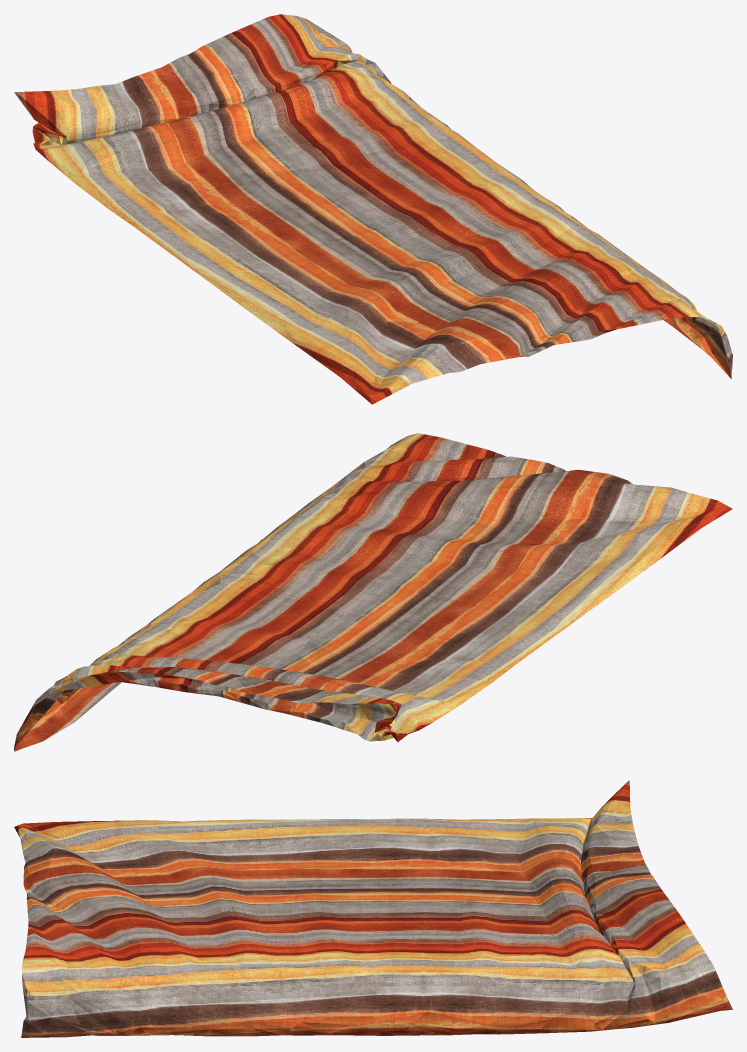
The model's file is Blanket.FBX.
3 views of the same model, one above another, from view 1: azimuth 30°, elevation 25°; view 2: azimuth 150°, elevation 25°; view 3: azimuth 270°, elevation 25° (orthographic). The views are drawn at different scales.
Parts seen in each view (by area): view 1: blanket; view 2: blanket; view 3: blanket.
Part boxes in pixels (x1,y1,x2,y2): blanket: (14, 14, 732, 404); blanket: (14, 433, 732, 751); blanket: (14, 780, 732, 1037).
Size of the model in its own units: 90.34 by 26.77 by 169.
1 material, 1 textured.
